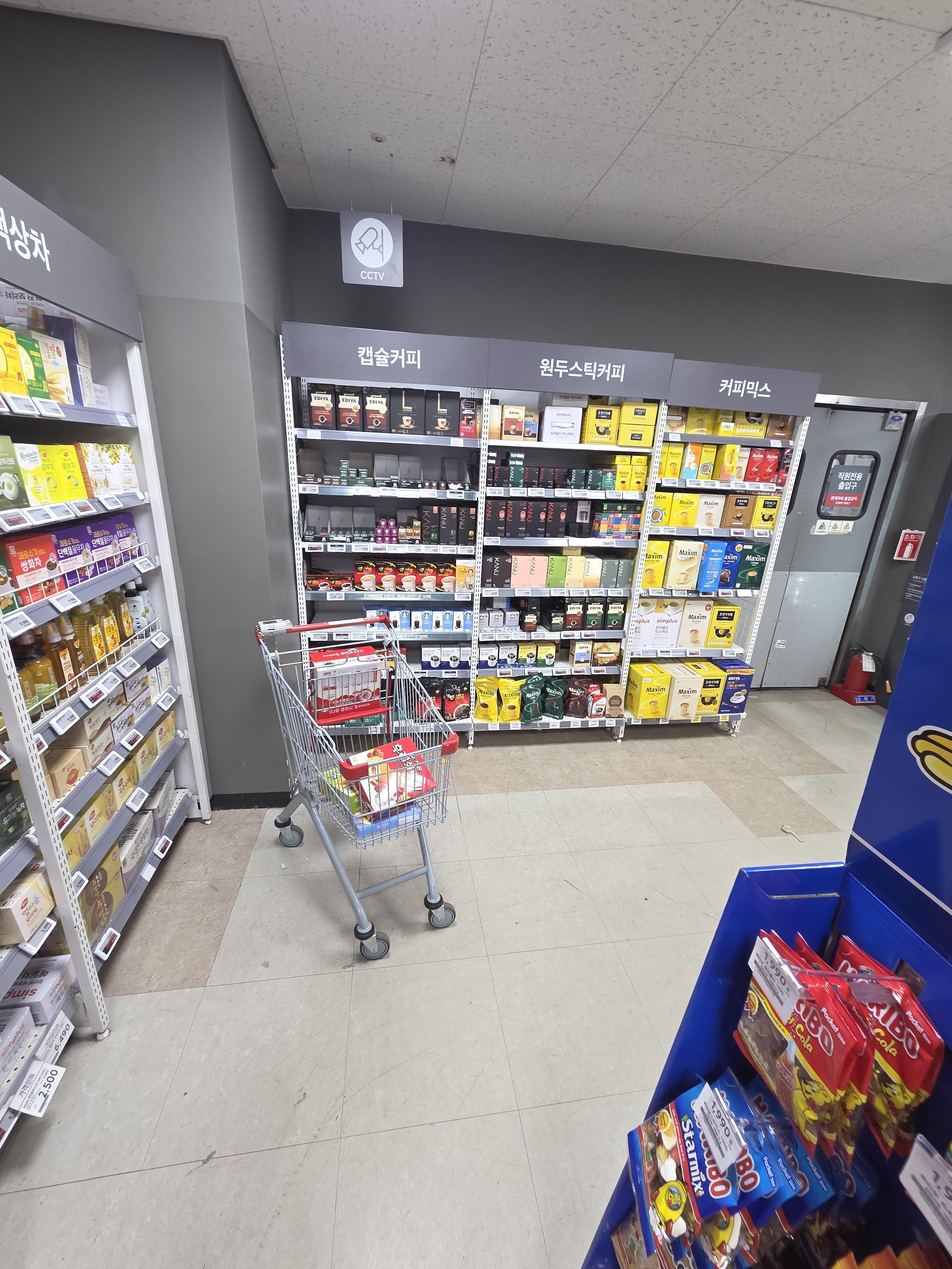fully_cart: (260, 599, 473, 959)
